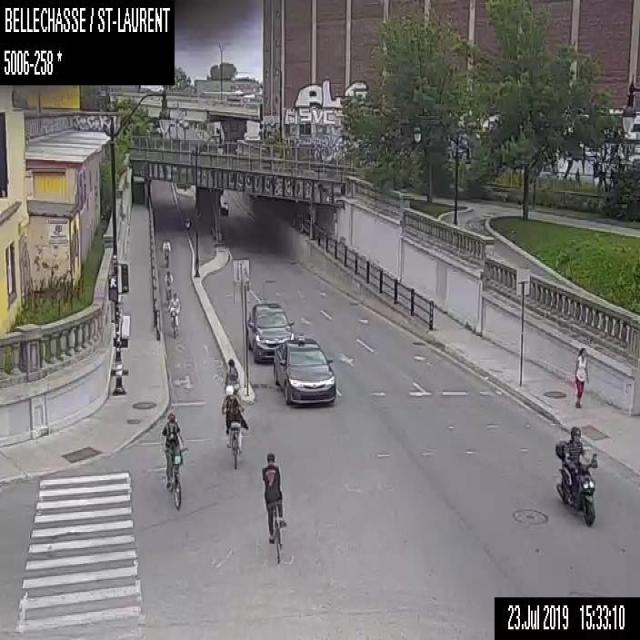cyclist: (261, 452, 285, 562), (221, 387, 247, 468), (161, 412, 182, 509), (223, 358, 240, 396), (167, 292, 180, 338), (164, 269, 173, 301), (162, 237, 171, 266)
pedestrian: (574, 346, 589, 406)
vehicle: (272, 332, 336, 410), (554, 425, 597, 525), (246, 302, 294, 363), (220, 200, 229, 213)
